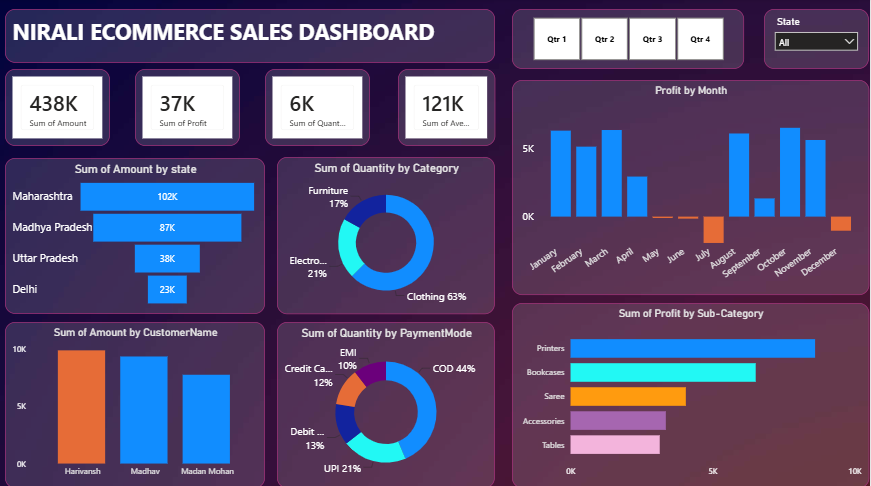

The dashboard page shown, as its layout file describes it:
{"tool":"powerbi","page":{"name":"Page 1","canvas":[1280,720],"ordinal":0},"visuals":[{"type":"textbox","box":[10.1,0,702.2,79],"z":0},{"type":"columnChart","title":" Profit by Month","fields":{"Category":["Orders.Order Date.Variation.Date Hierarchy.Month"],"Y":["Sum(Details.Profit)"]},"box":[755.3,120.5,524.6,315.9],"z":1000},{"type":"barChart","fields":{"Category":["Details.Sub-Category"],"Y":["Sum(Details.Profit)"]},"box":[755.3,448.2,524.6,271.8],"z":2000},{"type":"donutChart","fields":{"Category":["Details.Category"],"Y":["Sum(Details.Quantity)"]},"box":[410,233.6,320.3,230.7],"z":3000},{"type":"donutChart","fields":{"Category":["Details.PaymentMode"],"Y":["Sum(Details.Quantity)"]},"box":[410,476.1,320.3,243.9],"z":4000},{"type":"cardVisual","fields":{"Data":["Sum(Details.Amount)"]},"box":[0,91.1,154.3,113.1],"z":5000},{"type":"cardVisual","fields":{"Data":["Sum(Details.Profit)"]},"box":[177.8,91.1,154.3,113.1],"z":6000},{"type":"cardVisual","fields":{"Data":["Sum(Details.Quantity)"]},"box":[361.5,91.1,154.3,113.1],"z":7000},{"type":"cardVisual","fields":{"Data":["Sum(Details.Average)"]},"box":[540.7,91.1,142.5,113.1],"z":8000},{"type":"slicer","fields":{"Values":["Orders.State"]},"box":[1125.6,29.4,154.3,74.9],"z":9000},{"type":"funnel","title":"Sum of Amount by state","fields":{"Category":["Orders.State"],"Y":["Sum(Details.Amount)"]},"box":[10.3,235.1,382,229.2],"z":10000},{"type":"columnChart","fields":{"Category":["Orders.CustomerName"],"Y":["Sum(Details.Amount)"]},"box":[10,476,382,244],"z":11000},{"type":"slicer","fields":{"Values":["Orders.Order Date.Variation.Date Hierarchy.Quarter"]},"box":[730.3,23.5,365.9,88.2],"z":12000}]}

Visuals, with their boxes in screenshot pixels (x1, y1, x2, y2), scaled from the page's 1280x720 canvas onto the 871x486 screenshot:
textbox: (left=7, top=0, right=485, bottom=53)
" Profit by Month" columnChart: (left=514, top=81, right=870, bottom=295)
barChart - Details.Sub-Category x Sum(Details.Profit): (left=514, top=303, right=870, bottom=485)
donutChart - Details.Category x Sum(Details.Quantity): (left=279, top=158, right=497, bottom=313)
donutChart - Details.PaymentMode x Sum(Details.Quantity): (left=279, top=321, right=497, bottom=485)
cardVisual - Sum(Details.Amount): (left=0, top=61, right=105, bottom=138)
cardVisual - Sum(Details.Profit): (left=121, top=61, right=226, bottom=138)
cardVisual - Sum(Details.Quantity): (left=246, top=61, right=351, bottom=138)
cardVisual - Sum(Details.Average): (left=368, top=61, right=465, bottom=138)
slicer - Orders.State: (left=766, top=20, right=870, bottom=70)
"Sum of Amount by state" funnel: (left=7, top=159, right=267, bottom=313)
columnChart - Orders.CustomerName x Sum(Details.Amount): (left=7, top=321, right=267, bottom=485)
slicer - Orders.Order Date.Variation.Date Hierarchy.Quarter: (left=497, top=16, right=746, bottom=75)
